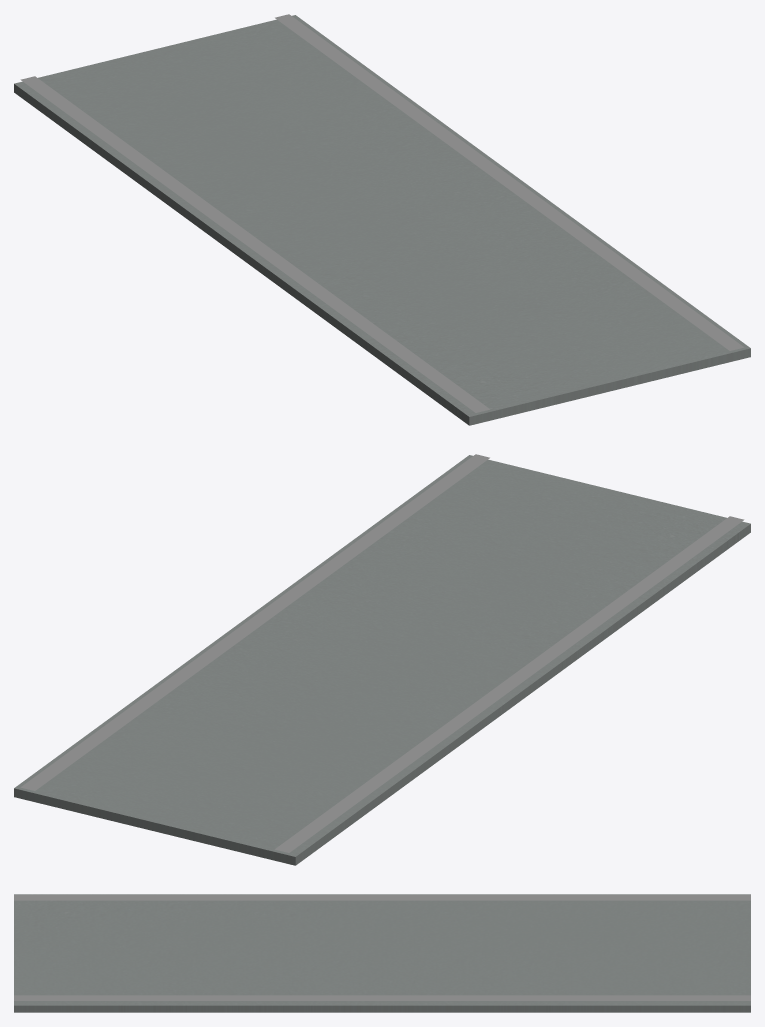
The model's file is Road_Straight.fbx.
3 views of the same model, one above another, from view 1: azimuth 30°, elevation 25°; view 2: azimuth 150°, elevation 25°; view 3: azimuth 270°, elevation 25° (orthographic). The views are drawn at different scales.
Visible parts, largest first — view 1: Road_Straight; view 2: Road_Straight; view 3: Road_Straight.
Part boxes in pixels (x1,y1,x2,y2): Road_Straight: [14, 14, 750, 425]; Road_Straight: [14, 454, 750, 865]; Road_Straight: [14, 894, 750, 1012].
Size of the model in its own units: 536 by 20.28 by 1500.
